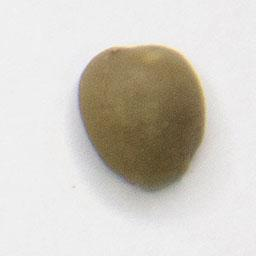premium: (73, 42, 208, 195)
